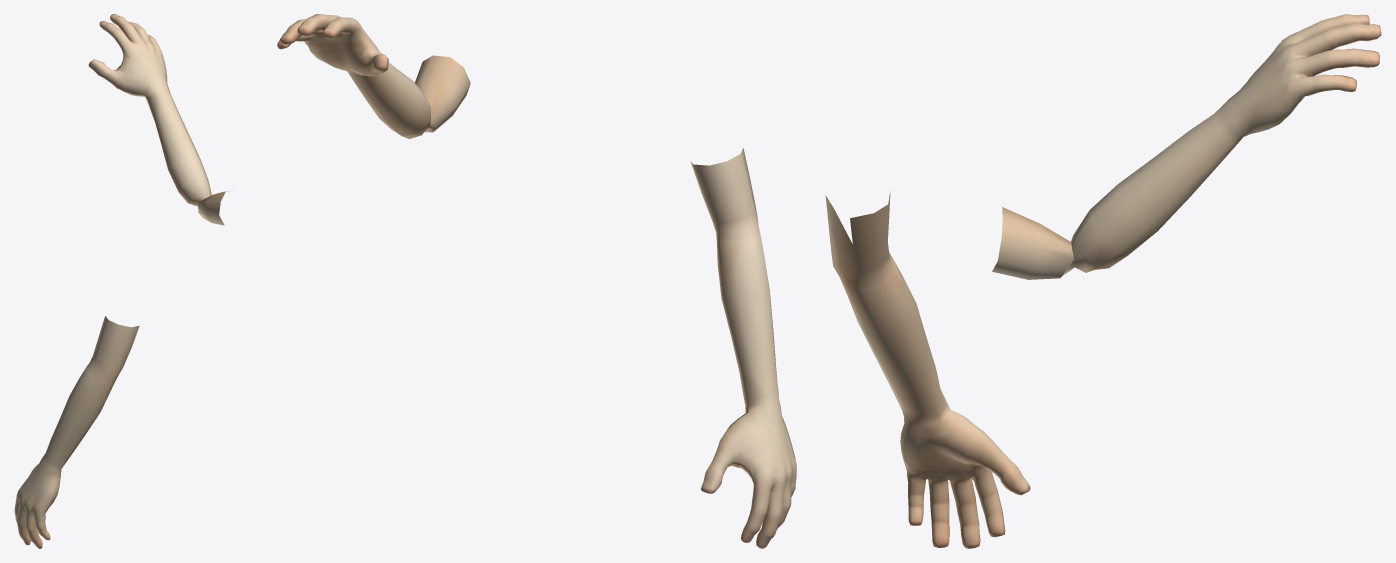
The model's file is BackHandAnchor.glb.
The picture shows the model from 3 angles, left to right: view 1: azimuth 30°, elevation 25°; view 2: azimuth 150°, elevation 25°; view 3: azimuth 270°, elevation 25°; orthographic projection. The views are drawn at different scales.
Visible parts, largest first — view 1: Model; view 2: Model; view 3: Model.
Part boxes in pixels (x1,y1,x2,y2): Model: (14,14,229,548); Model: (277,14,796,548); Model: (825,14,1381,548).
Bounding box in the file's own units: 0.3727 × 0.5898 × 0.4252.
Materials: 1 (1 with a texture image).
